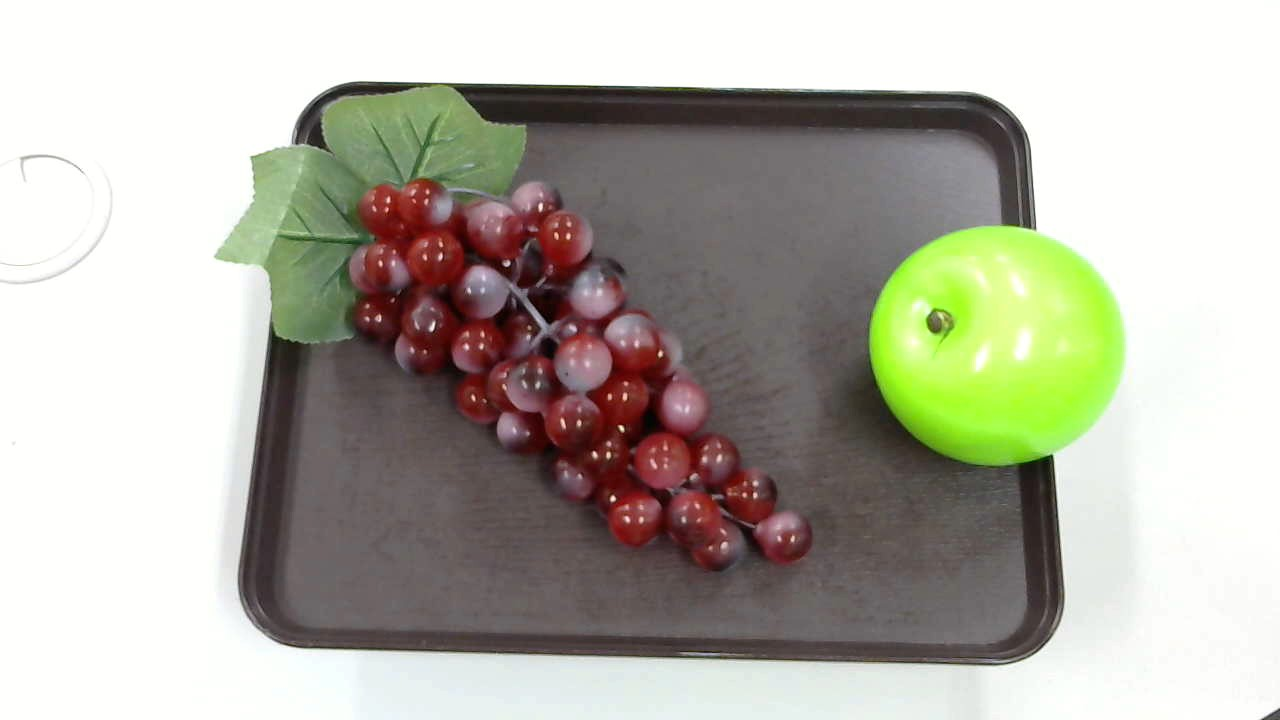grape: (213, 80, 825, 585)
green apple: (861, 224, 1135, 473)
